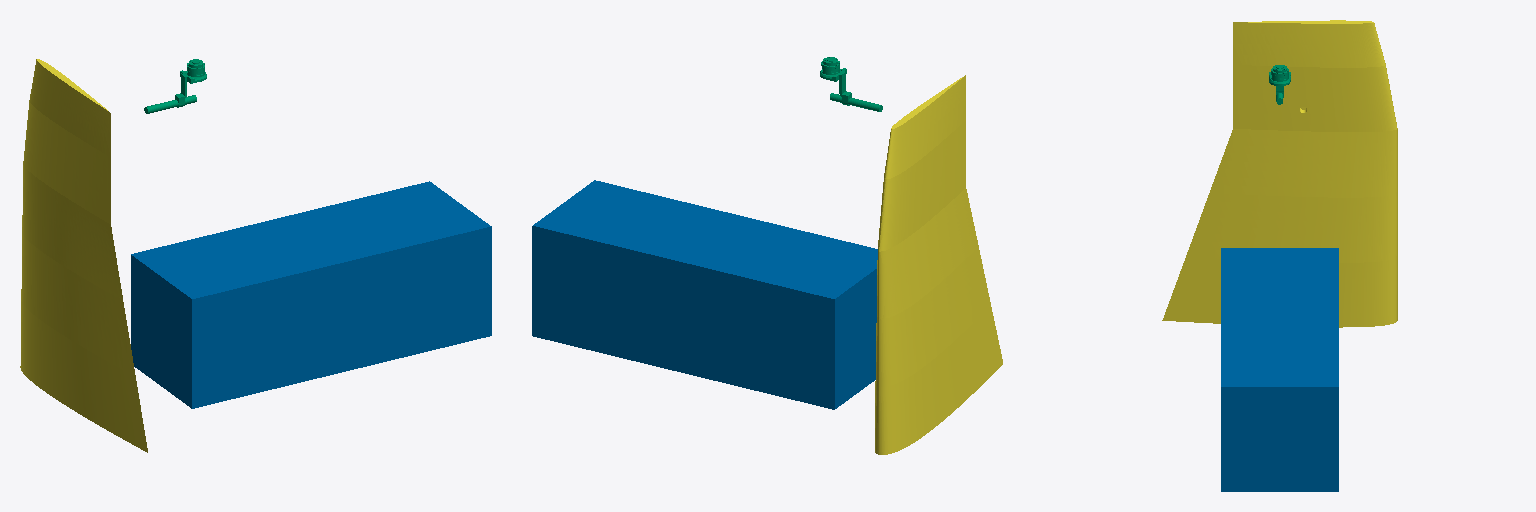
URDF robot description (panda):
<?xml version="1.0" ?>
<!-- =================================================================================== -->
<!-- |    This document was autogenerated by xacro from franka_description/robots/panda.urdf.xacro | -->
<!-- |    EDITING THIS FILE BY HAND IS NOT RECOMMENDED                                 | -->
<!-- =================================================================================== -->
<robot name="panda">
  <!--: Minimum safety distance [m] by which the collision volumes are expanded and which is enforced during robot motions -->
  <!-- arm_id: Namespace of the panda arm. Serves to differentiate between arms in case of multiple instances. -->
  <!-- <xacro:include filename="$(find franka_description)/robots/panda_hand.xacro" /> -->
  <!-- fix the robot to the Gazebo world coordinate system  -->
  <link name="world"/>
  <joint name="robot_to_world" type="fixed">
    <parent link="world"/>
    <child link="panda_link0"/>
    <origin rpy="0.0 0.0 3.1415926" xyz="-1.0 0 0.5"/>
    <dynamics damping="1.0"/>
  </joint>
  <!-- link/joint 0 -->
  <link name="panda_link0">
    <inertial>
      <mass value="1.937868"/>
      <origin rpy="0 0 0" xyz="-0.025566 -2.88e-05 0.057332"/>
      <inertia ixx="1" ixy="0" ixz="0" iyy="1" iyz="0" izz="1"/>
    </inertial>
    <visual>
      <origin rpy="0 0 0" xyz="0 0 0"/>
      <geometry>
        <mesh filename="package://franka_description/meshes/visual/link0.dae"/>
      </geometry>
    </visual>
  </link>
  <!-- link/joint 1 -->
  <link name="panda_link1">
    <inertial>
      <origin rpy="0 0 0" xyz="3.875e-03 2.081e-03 -0.1750"/>
      <mass value="4.970684"/>
      <inertia ixx="0.551121276649726" ixy="-9.891702555950000e-05" ixz="0.003401254912500" iyy="0.554308164573063" iyz="0.017358801154300" izz="0.009020836222789"/>
    </inertial>
    <visual>
      <origin rpy="0 0 0" xyz="0 0 0"/>
      <geometry>
        <mesh filename="package://franka_description/meshes/visual/link1.dae"/>
      </geometry>
    </visual>
  </link>
  <joint name="panda_joint1" type="revolute">
    <safety_controller k_position="100.0" k_velocity="40.0" soft_lower_limit="-2.8973" soft_upper_limit="2.8973"/>
    <origin rpy="0 0 0" xyz="0 0 0.333"/>
    <parent link="panda_link0"/>
    <child link="panda_link1"/>
    <axis xyz="0 0 1"/>
    <limit effort="87" lower="-2.8973" upper="2.8973" velocity="2.1750"/>
    <dynamics damping="1.0"/>
  </joint>
  <!-- link/joint 2 -->
  <link name="panda_link2">
    <inertial>
      <origin rpy="0 0 0" xyz="-3.141e-03 -2.872e-02 3.495e-03"/>
      <mass value="0.646926"/>
      <inertia ixx="0.007420488375978" ixy="-0.003866641116064" ixz="0.010246898178992" iyy="0.028095715287805" iyz="6.390638970536000e-04" izz="0.025455008098310"/>
    </inertial>
    <visual>
      <origin rpy="0 0 0" xyz="0 0 0"/>
      <geometry>
        <mesh filename="package://franka_description/meshes/visual/link2.dae"/>
      </geometry>
    </visual>
  </link>
  <joint name="panda_joint2" type="revolute">
    <safety_controller k_position="100.0" k_velocity="40.0" soft_lower_limit="-1.7628" soft_upper_limit="1.7628"/>
    <origin rpy="-1.5707963267948966 0 0" xyz="0 0 0"/>
    <parent link="panda_link1"/>
    <child link="panda_link2"/>
    <axis xyz="0 0 1"/>
    <limit effort="87" lower="-1.7628" upper="1.7628" velocity="2.1750"/>
    <dynamics damping="1.0"/>
  </joint>
  <!-- link/joint 3 -->
  <link name="panda_link3">
    <inertial>
      <origin rpy="0 0 0" xyz="2.7518e-02 3.9252e-02 -6.6502e-02"/>
      <mass value="3.228604"/>
      <inertia ixx="0.017989073985929" ixy="-0.001273666859324" ixz="-0.017304351893438" iyy="0.019431618000394" iyz="-0.021232742878160" izz="0.003410797707480"/>
    </inertial>
    <visual>
      <origin rpy="0 0 0" xyz="0 0 0"/>
      <geometry>
        <mesh filename="package://franka_description/meshes/visual/link3.dae"/>
      </geometry>
    </visual>
  </link>
  <joint name="panda_joint3" type="revolute">
    <safety_controller k_position="100.0" k_velocity="40.0" soft_lower_limit="-2.8973" soft_upper_limit="2.8973"/>
    <origin rpy="1.5707963267948966 0 0" xyz="0 -0.316 0"/>
    <parent link="panda_link2"/>
    <child link="panda_link3"/>
    <axis xyz="0 0 1"/>
    <limit effort="87" lower="-2.8973" upper="2.8973" velocity="2.1750"/>
    <dynamics damping="1.0"/>
  </joint>
  <!-- link/joint 4 -->
  <link name="panda_link4">
    <inertial>
      <origin rpy="0 0 0" xyz="-5.317e-02 1.04419e-01 2.7454e-02"/>
      <mass value="3.587895"/>
      <inertia ixx="-0.015971270250860" ixy="-0.012123843173626" ixz="-0.006569355026276" iyy="0.006704569575549" iyz="0.018926487577369" izz="-0.020940149052540"/>
    </inertial>
    <visual>
      <origin rpy="0 0 0" xyz="0 0 0"/>
      <geometry>
        <mesh filename="package://franka_description/meshes/visual/link4.dae"/>
      </geometry>
    </visual>
  </link>
  <joint name="panda_joint4" type="revolute">
    <safety_controller k_position="100.0" k_velocity="40.0" soft_lower_limit="-3.0718" soft_upper_limit="0.0698"/>
    <origin rpy="1.5707963267948966 0 0" xyz="0.0825 0 0"/>
    <parent link="panda_link3"/>
    <child link="panda_link4"/>
    <axis xyz="0 0 1"/>
    <limit effort="87" lower="-3.0718" upper="0.0698" velocity="2.1750"/>
    <dynamics damping="1.0"/>
  </joint>
  <!-- link/joint 5 -->
  <link name="panda_link5">
    <inertial>
      <origin rpy="0 0 0" xyz="-1.1953e-02 4.1065e-02 -3.8437e-02"/>
      <mass value="1.225946"/>
      <inertia ixx="0.031670429041964" ixy="-0.002718755526673" ixz="-0.003473754482437" iyy="0.027487627674740" iyz="-0.001706052052098" izz="0.006384489237171"/>
    </inertial>
    <visual>
      <origin rpy="0 0 0" xyz="0 0 0"/>
      <geometry>
        <mesh filename="package://franka_description/meshes/visual/link5.dae"/>
      </geometry>
    </visual>
  </link>
  <joint name="panda_joint5" type="revolute">
    <safety_controller k_position="100.0" k_velocity="40.0" soft_lower_limit="-2.8973" soft_upper_limit="2.8973"/>
    <origin rpy="-1.5707963267948966 0 0" xyz="-0.0825 0.384 0"/>
    <parent link="panda_link4"/>
    <child link="panda_link5"/>
    <axis xyz="0 0 1"/>
    <limit effort="12" lower="-2.8973" upper="2.8973" velocity="2.6100"/>
    <dynamics damping="1.0"/>
  </joint>
  <!-- link/joint 6 -->
  <link name="panda_link6">
    <inertial>
      <origin rpy="0 0 0" xyz="6.0149e-02 -1.4117e-02 -1.0517e-02"/>
      <mass value="1.666555"/>
      <inertia ixx="0.001447539641829" ixy="-0.001306110902883" ixz="-0.002212241082781" iyy="-0.001859766133107" iyz="5.884309026853950e-04" izz="-9.285602302389487e-04"/>
    </inertial>
    <visual>
      <origin rpy="0 0 0" xyz="0 0 0"/>
      <geometry>
        <mesh filename="package://franka_description/meshes/visual/link6.dae"/>
      </geometry>
    </visual>
  </link>
  <joint name="panda_joint6" type="revolute">
    <safety_controller k_position="100.0" k_velocity="40.0" soft_lower_limit="-0.0175" soft_upper_limit="3.7525"/>
    <origin rpy="1.5707963267948966 0 0" xyz="0 0 0"/>
    <parent link="panda_link5"/>
    <child link="panda_link6"/>
    <axis xyz="0 0 1"/>
    <!--<limit effort="[number redacted]" lower="-0.0175" upper="3.7525" velocity="[number redacted]"/>-->
    <limit effort="12" lower="-0.0175" upper="3.7525" velocity="2.6100"/>
    <dynamics damping="1.0"/>
  </joint>
  <!-- link/joint 7 -->
  <link name="panda_link7">
    <inertial>
      <origin rpy="0 0 0" xyz="1.0517e-02 -4.252e-03 6.1597e-02"/>
      <mass value="7.35522e-01"/>
      <inertia ixx="0.009711991609050" ixy="-4.608912816842480e-04" ixz="-7.195173382162220e-04" iyy="0.007154935387572" iyz="-9.336408935917680e-04" izz="0.004720348032639"/>
    </inertial>
    <visual>
      <origin rpy="0 0 0" xyz="0 0 0"/>
      <geometry>
        <mesh filename="package://franka_description/meshes/visual/link7.dae"/>
      </geometry>
    </visual>
  </link>
  <joint name="panda_joint7" type="revolute">
    <safety_controller k_position="100.0" k_velocity="40.0" soft_lower_limit="-2.8973" soft_upper_limit="2.8973"/>
    <origin rpy="1.5707963267948966 0 0" xyz="0.088 0 0"/>
    <parent link="panda_link6"/>
    <child link="panda_link7"/>
    <axis xyz="0 0 1"/>
    <!-- <limit effort="[number redacted]" lower="-2.8973" upper="2.8973" velocity="[number redacted]"/> -->
    <limit effort="12" lower="-2.8973" upper="2.8973" velocity="2.6100"/>
    <dynamics damping="1.0"/>
  </joint>
  <!-- link/joint 8 -->
  <link name="panda_link8"/>
  <joint name="panda_joint8" type="fixed">
    <origin rpy="0 0 0" xyz="0 0 0.107"/>
    <parent link="panda_link7"/>
    <child link="panda_link8"/>
    <axis xyz="0 0 0"/>
  </joint>
  <!-- link 0 -->
  <gazebo reference="panda_link0">
    <material>Gazebo/Grey</material>
    <mu1>0.2</mu1>
    <mu2>0.2</mu2>
  </gazebo>
  <!-- link/joint 1 -->
  <gazebo reference="panda_link1">
    <material>Gazebo/White</material>
    <mu1>0.2</mu1>
    <mu2>0.2</mu2>
  </gazebo>
  <gazebo reference="panda_joint1">
    <implicitSpringDamper>1</implicitSpringDamper>
    <provideFeedback>true</provideFeedback>
  </gazebo>
  <!-- link/joint 2 -->
  <gazebo reference="panda_link2">
    <material>Gazebo/White</material>
    <mu1>0.2</mu1>
    <mu2>0.2</mu2>
  </gazebo>
  <gazebo reference="panda_joint2">
    <implicitSpringDamper>1</implicitSpringDamper>
    <provideFeedback>true</provideFeedback>
  </gazebo>
  <!-- link/joint 3 -->
  <gazebo reference="panda_link3">
    <material>Gazebo/White</material>
    <mu1>0.2</mu1>
    <mu2>0.2</mu2>
  </gazebo>
  <gazebo reference="panda_joint3">
    <implicitSpringDamper>1</implicitSpringDamper>
    <provideFeedback>true</provideFeedback>
  </gazebo>
  <!-- link/joint 4 -->
  <gazebo reference="panda_link4">
    <material>Gazebo/White</material>
    <mu1>0.2</mu1>
    <mu2>0.2</mu2>
  </gazebo>
  <gazebo reference="panda_joint4">
    <implicitSpringDamper>1</implicitSpringDamper>
    <provideFeedback>true</provideFeedback>
  </gazebo>
  <!-- link/joint 5 -->
  <gazebo reference="panda_link5">
    <material>Gazebo/White</material>
    <mu1>0.2</mu1>
    <mu2>0.2</mu2>
  </gazebo>
  <gazebo reference="panda_joint5">
    <implicitSpringDamper>1</implicitSpringDamper>
    <provideFeedback>true</provideFeedback>
  </gazebo>
  <!-- link/joint 6 -->
  <gazebo reference="panda_link6">
    <material>Gazebo/White</material>
    <mu1>0.2</mu1>
    <mu2>0.2</mu2>
  </gazebo>
  <gazebo reference="panda_joint6">
    <implicitSpringDamper>1</implicitSpringDamper>
    <provideFeedback>true</provideFeedback>
  </gazebo>
  <!-- link/joint 7 -->
  <gazebo reference="panda_link7">
    <material>Gazebo/Grey</material>
    <mu1>0.2</mu1>
    <mu2>0.2</mu2>
  </gazebo>
  <gazebo reference="panda_joint7">
    <implicitSpringDamper>1</implicitSpringDamper>
    <provideFeedback>true</provideFeedback>
  </gazebo>
  <!-- link/joint 8 -->
  <gazebo reference="panda_link8">
    <material>Gazebo/Grey</material>
    <mu1>0.2</mu1>
    <mu2>0.2</mu2>
  </gazebo>
  <!-- link/joint hand -->
  <gazebo reference="panda_hand">
    <material>Gazebo/Grey</material>
    <mu1>0.2</mu1>
    <mu2>0.2</mu2>
  </gazebo>
  <!-- Load Gazebo lib with desired parameters -->
  <gazebo>
    <plugin filename="libgazebo_ros_control.so" name="gazebo_ros_control">
        </plugin>
  </gazebo>
  <!-- transmission joint 1 -->
  <transmission name="panda_tran_1">
    <type>transmission_interface/SimpleTransmission</type>
    <joint name="panda_joint1">
      <hardwareInterface>hardware_interface/EffortJointInterface</hardwareInterface>
    </joint>
    <actuator name="panda_motor_1">
      <hardwareInterface>hardware_interface/EffortJointInterface</hardwareInterface>
      <mechanicalReduction>1</mechanicalReduction>
    </actuator>
  </transmission>
  <!-- transmission joint 2 -->
  <transmission name="panda_tran_2">
    <type>transmission_interface/SimpleTransmission</type>
    <joint name="panda_joint2">
      <hardwareInterface>hardware_interface/EffortJointInterface</hardwareInterface>
    </joint>
    <actuator name="panda_motor_2">
      <hardwareInterface>hardware_interface/EffortJointInterface</hardwareInterface>
      <mechanicalReduction>1</mechanicalReduction>
    </actuator>
  </transmission>
  <!-- transmission joint 3 -->
  <transmission name="panda_tran_3">
    <type>transmission_interface/SimpleTransmission</type>
    <joint name="panda_joint3">
      <hardwareInterface>hardware_interface/EffortJointInterface</hardwareInterface>
    </joint>
    <actuator name="panda_motor_3">
      <hardwareInterface>hardware_interface/EffortJointInterface</hardwareInterface>
      <mechanicalReduction>1</mechanicalReduction>
    </actuator>
  </transmission>
  <!-- transmission joint 4 -->
  <transmission name="panda_tran_4">
    <type>transmission_interface/SimpleTransmission</type>
    <joint name="panda_joint4">
      <hardwareInterface>hardware_interface/EffortJointInterface</hardwareInterface>
    </joint>
    <actuator name="panda_motor_4">
      <hardwareInterface>hardware_interface/EffortJointInterface</hardwareInterface>
      <mechanicalReduction>1</mechanicalReduction>
    </actuator>
  </transmission>
  <!-- transmission joint 5 -->
  <transmission name="panda_tran_5">
    <type>transmission_interface/SimpleTransmission</type>
    <joint name="panda_joint5">
      <hardwareInterface>hardware_interface/EffortJointInterface</hardwareInterface>
    </joint>
    <actuator name="panda_motor_5">
      <hardwareInterface>hardware_interface/EffortJointInterface</hardwareInterface>
      <mechanicalReduction>1</mechanicalReduction>
    </actuator>
  </transmission>
  <!-- transmission joint 6 -->
  <transmission name="panda_tran_6">
    <type>transmission_interface/SimpleTransmission</type>
    <joint name="panda_joint6">
      <hardwareInterface>hardware_interface/EffortJointInterface</hardwareInterface>
    </joint>
    <actuator name="panda_motor_6">
      <hardwareInterface>hardware_interface/EffortJointInterface</hardwareInterface>
      <mechanicalReduction>1</mechanicalReduction>
    </actuator>
  </transmission>
  <!-- transmission joint 7 -->
  <transmission name="panda_tran_7">
    <type>transmission_interface/SimpleTransmission</type>
    <joint name="panda_joint7">
      <hardwareInterface>hardware_interface/EffortJointInterface</hardwareInterface>
    </joint>
    <actuator name="panda_motor_7">
      <hardwareInterface>hardware_interface/EffortJointInterface</hardwareInterface>
      <mechanicalReduction>1</mechanicalReduction>
    </actuator>
  </transmission>
<joint name="panda_hand_joint" type="fixed">
    <parent link="panda_link8"/>
    <child link="panda_hand"/>
    <origin rpy="0 0 -1.5707963267948966" xyz="0 0 0"/>
  </joint>
  <link name="panda_hand">
    <visual>
      <origin rpy="0 0 1.04719" xyz="0 0 0"/>
      <geometry>
        <mesh filename="package://franka_description/meshes/visual/end_effector.dae" scale="0.001 0.001 0.001"/>
      </geometry>
    </visual>
    <inertial>
      <!-- <origin rpy="0 0 0" xyz="0.035 -0.020378 0.078141"/> -->
      <origin rpy="0 0 0" xyz="0.04688 0 0.078141"/>
      <mass value="1.128214"/>
      <!-- <inertia ixx="0.005319" ixy="0.001795" ixz="-0.00275" iyy="0.007390" iyz="0.001588" izz="0.004869"/> -->
      <inertia ixx="0.004282" ixy="0" ixz="-0.003176" iyy="0.008427" iyz="0" izz="0.004869"/>
    </inertial>
  </link>
 <joint name="wing_fixed" type="fixed">
    <parent link="world"/>
    <child link="my_wing"/>
  </joint>
  <link name="my_wing">
    <inertial>
      <origin xyz="-1.6 0 0"/>
      <mass value="1.0"/>
      <inertia ixx="1.0" ixy="0.0" ixz="0.0" iyy="1.0" iyz="0.0" izz="1.0"/>
    </inertial>
    <visual>
      <origin rpy="1.5708 -0 3.14159" xyz="-1.6 0 0"/>
      <geometry>
        <mesh filename="package://franka_description/models/wingprofile.dae" scale="0.01 0.01 0.01"/>
      </geometry>
    </visual>
  </link>
  <joint name="box_fixed" type="fixed">
    <origin xyz="-0.55 0 0.26"/>
    <parent link="world"/>
    <child link="my_box"/>
  </joint>
  <link name="my_box">
    <visual>
      <geometry>
        <box size="1.4 0.5 0.49"/>
      </geometry>
    </visual>
  </link>
</robot>

--- What the picture shows (computed from the rendered views, not written in the file) ---
3 views of the same robot in one strip: view 1: azimuth 30°, elevation 25°; view 2: azimuth 150°, elevation 25°; view 3: azimuth 270°, elevation 25° (orthographic).
Robot: panda — 13 links, 12 joints (7 revolute, 5 fixed); root link world; default pose: every joint at zero.
Links seen in each view (by area): view 1: my_box, my_wing, panda_hand; view 2: my_box, my_wing, panda_hand; view 3: my_wing, my_box, panda_hand.
Boxes of the visible links, box(x1,y1,x2,y2) form: my_box: box(131, 181, 491, 408); my_wing: box(20, 59, 147, 452); panda_hand: box(144, 59, 206, 113); my_box: box(532, 180, 877, 409); my_wing: box(875, 75, 1002, 454); panda_hand: box(820, 57, 882, 111); my_wing: box(1162, 20, 1397, 327); my_box: box(1221, 248, 1338, 491); panda_hand: box(1269, 65, 1290, 104).
Bounding box of the posed robot: 1.82 × 1 × 1.43 m (x, y, z).
2 mesh visuals loaded from 10 distinct referenced files (2 Collada DAE); not drawn: 8 (reference not matched to a file when rendering).